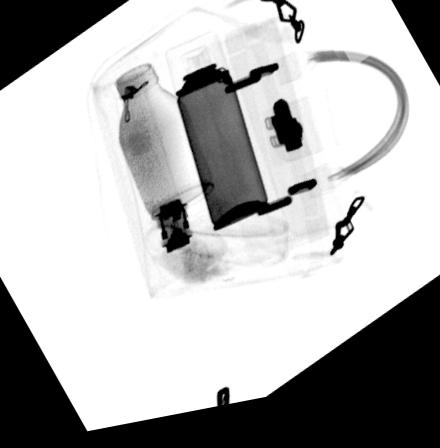Sprayer: (162, 34, 271, 241)
